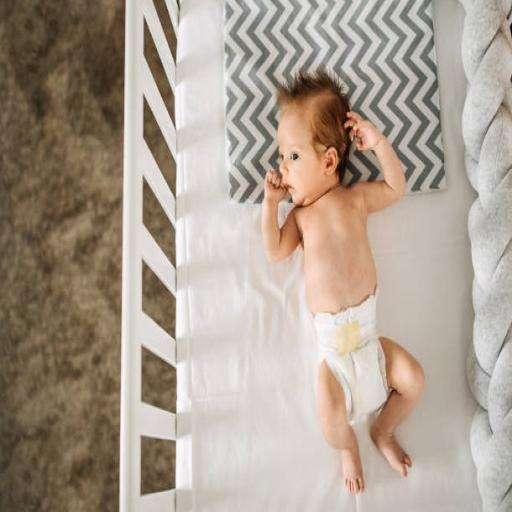baby: (262, 70, 423, 493)
crib: (121, 0, 511, 510)
